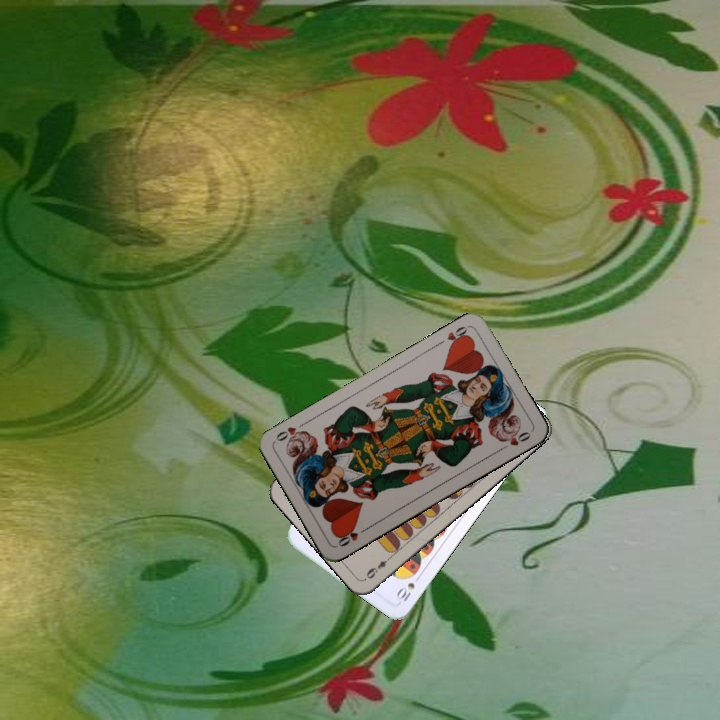E9: (362, 551, 395, 581)
HO: (434, 322, 472, 350), (334, 523, 370, 549)
S10: (392, 570, 424, 605)
